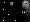person: (22, 3, 30, 16), (9, 4, 15, 14)
